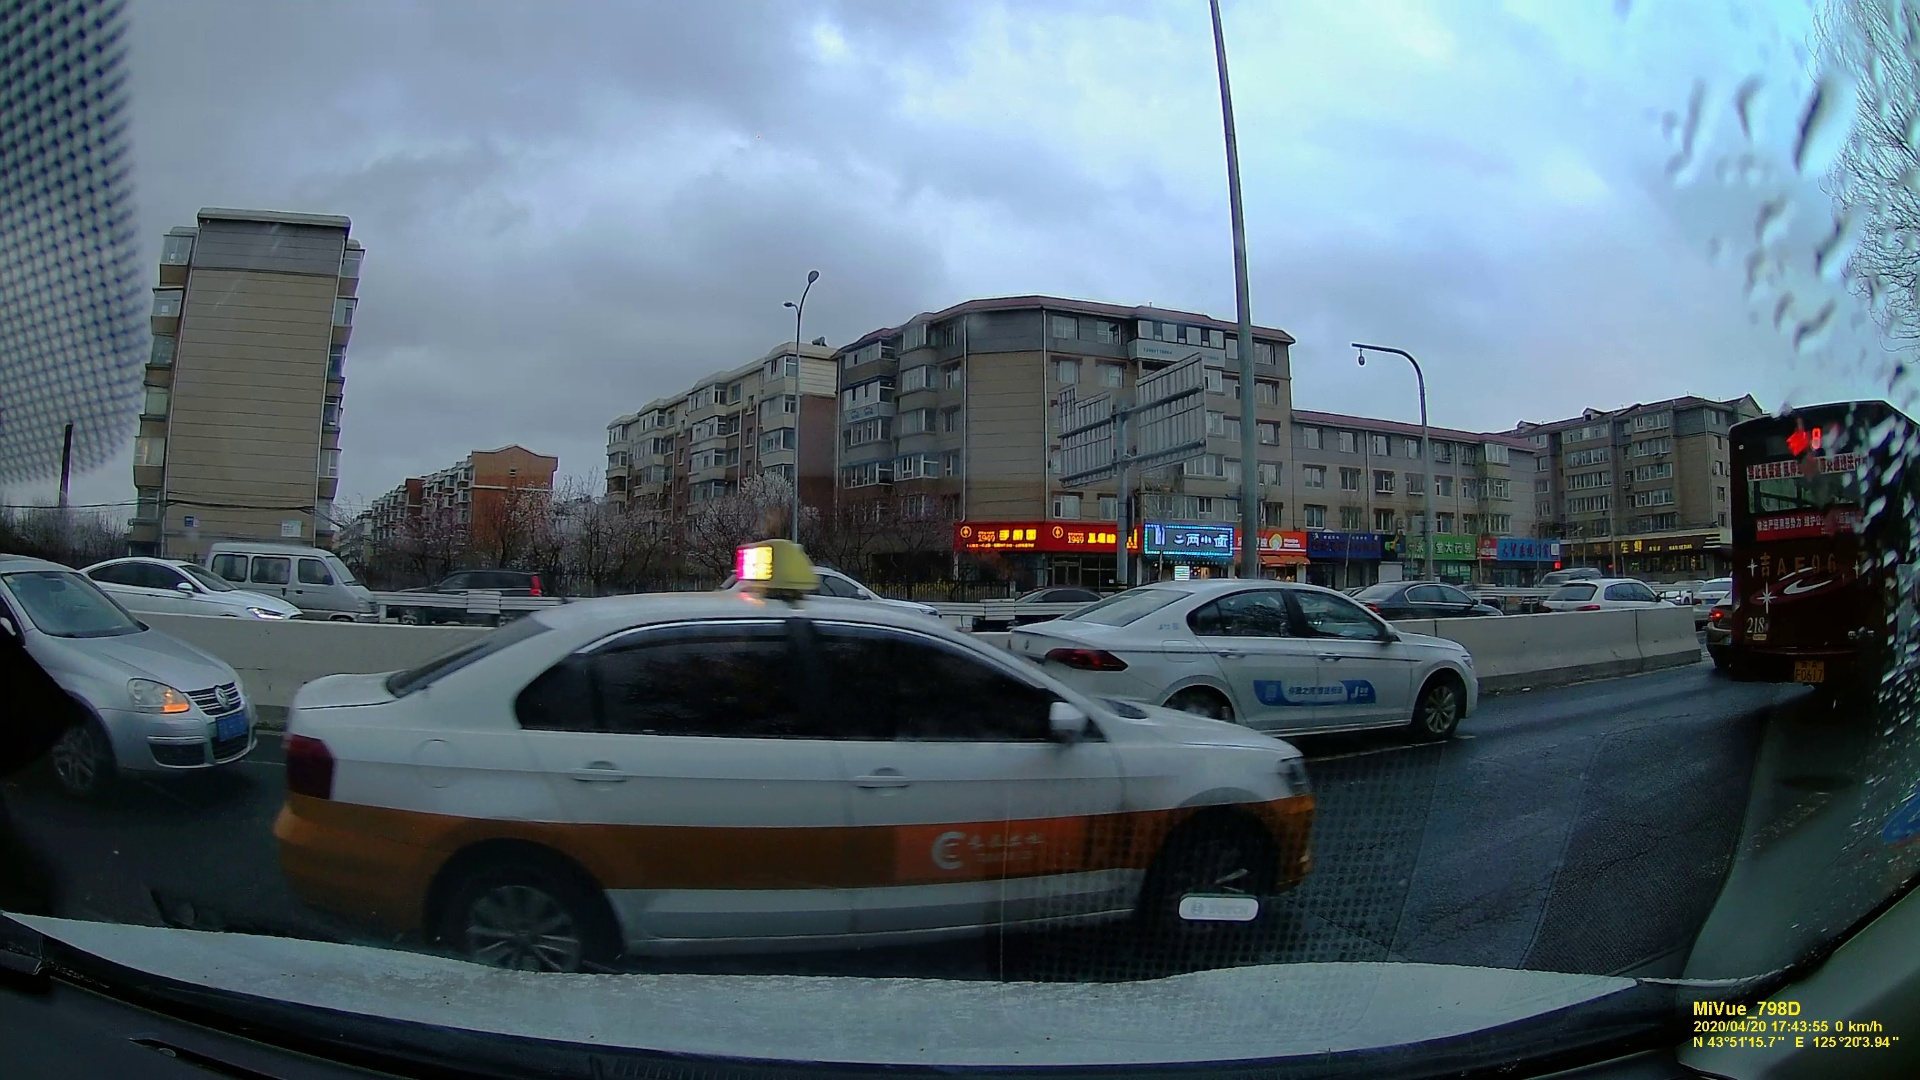bus: (1712, 402, 1920, 687)
minibus: (208, 545, 381, 613)
vehicle: (290, 597, 1263, 965), (1040, 579, 1482, 742), (1, 554, 253, 781), (1536, 572, 1676, 612)
